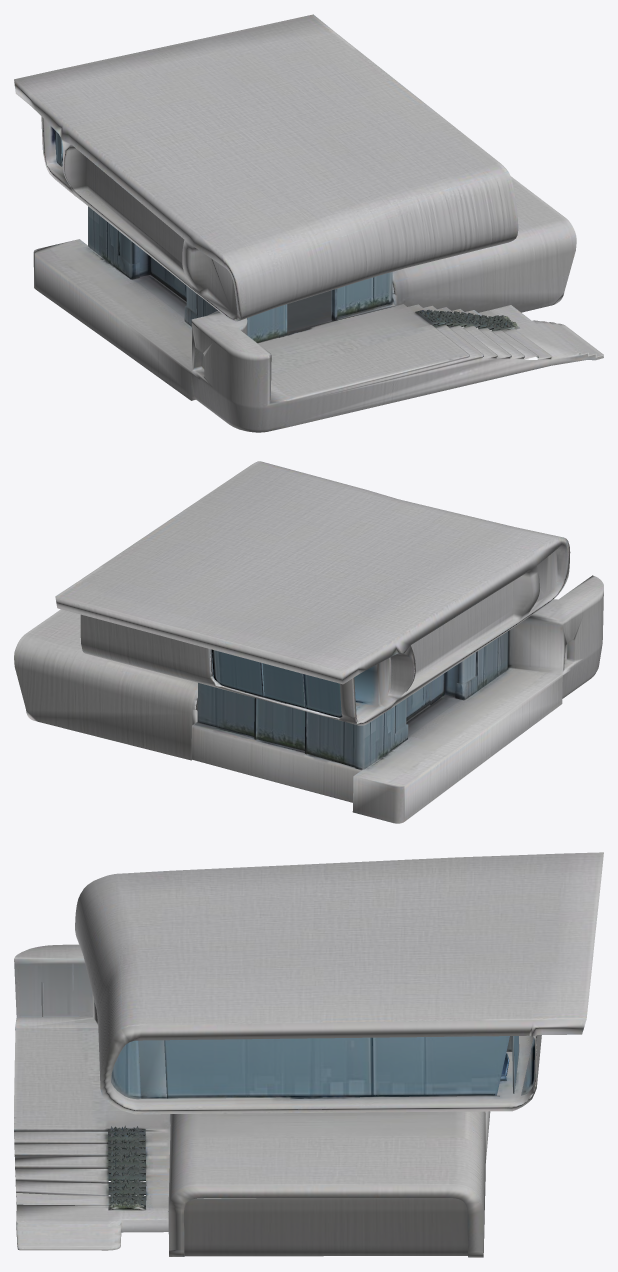
Rendered from town-curved-house.lite.glb.
3 views of the same model, one above another, from view 1: azimuth 30°, elevation 25°; view 2: azimuth 150°, elevation 25°; view 3: azimuth 270°, elevation 25° (orthographic). The views are drawn at different scales.
Parts seen in each view (by area): view 1: tripo_node_b1c86014-52f3-4c03-a8a7-2689ab6a0012; view 2: tripo_node_b1c86014-52f3-4c03-a8a7-2689ab6a0012; view 3: tripo_node_b1c86014-52f3-4c03-a8a7-2689ab6a0012.
Part boxes in pixels (x1,y1,x2,y2): tripo_node_b1c86014-52f3-4c03-a8a7-2689ab6a0012: [14, 14, 603, 432]; tripo_node_b1c86014-52f3-4c03-a8a7-2689ab6a0012: [14, 461, 603, 823]; tripo_node_b1c86014-52f3-4c03-a8a7-2689ab6a0012: [14, 852, 603, 1257].
Bounding box in the file's own units: 0.9116 × 0.3843 × 0.9995.
Materials: 1 (1 with a texture image).
